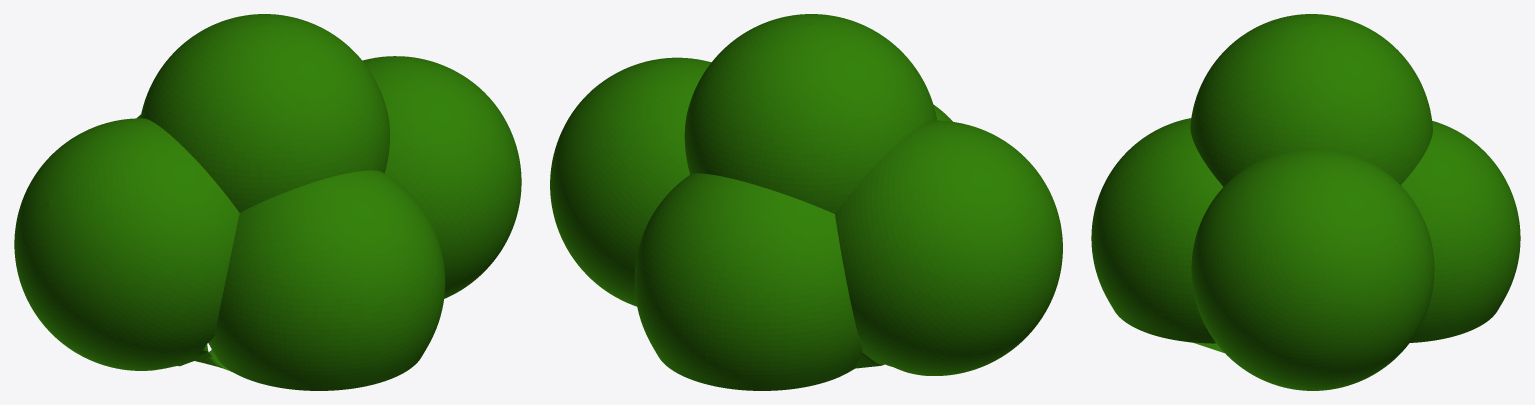
Rendered from Bush.fbx.
3 renders of one model, left to right at view 1: azimuth 30°, elevation 25°; view 2: azimuth 150°, elevation 25°; view 3: azimuth 270°, elevation 25°, orthographic. The views are drawn at different scales.
Visible parts, largest first — view 1: Sphere.004; view 2: Sphere.004; view 3: Sphere.004.
Part boxes in pixels (box(x1,y1,x2,y2)): Sphere.004: box(14, 14, 521, 390); Sphere.004: box(550, 14, 1062, 390); Sphere.004: box(1091, 14, 1520, 390).
Size of the model in its own units: 428 by 263 by 348.
